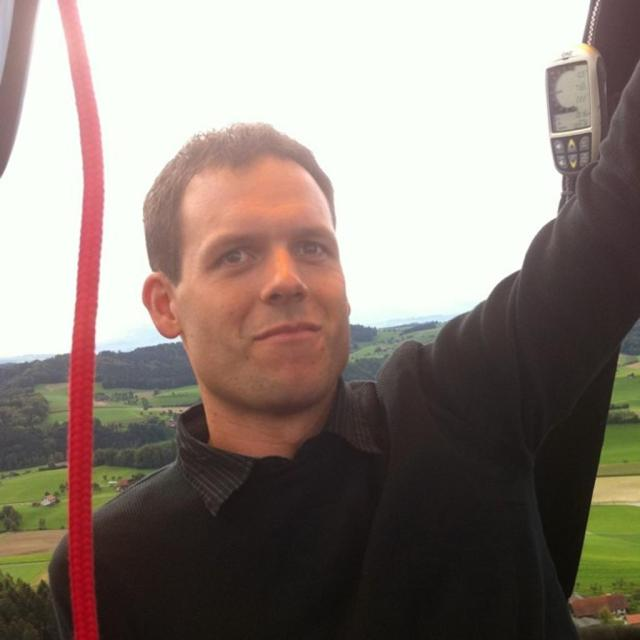Face: (176, 164, 367, 410)
